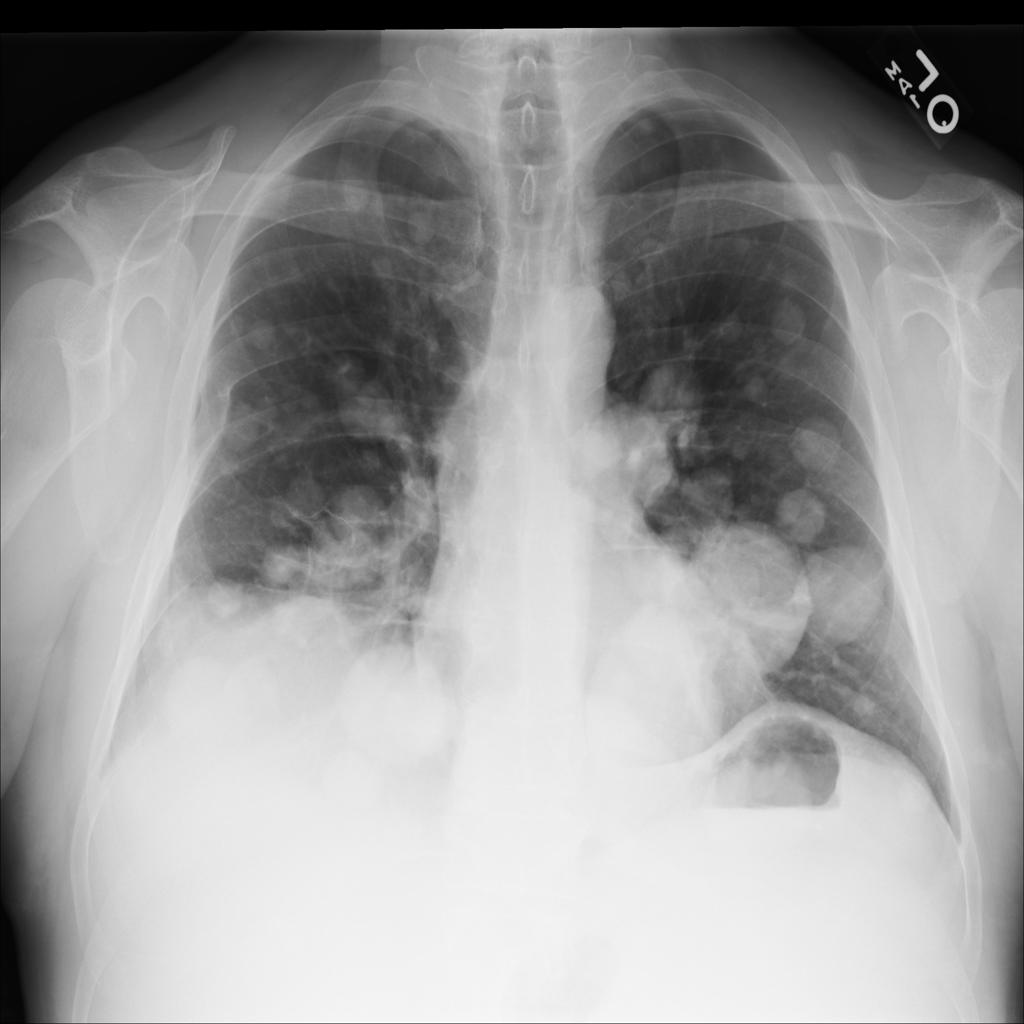nodule: (673, 513, 831, 679), (334, 642, 458, 776), (574, 398, 687, 526), (790, 529, 901, 649), (307, 512, 387, 589), (338, 363, 411, 445), (638, 354, 709, 432), (269, 595, 347, 664), (316, 474, 389, 547), (146, 595, 215, 672), (779, 409, 850, 482), (204, 388, 271, 465), (756, 280, 824, 355), (322, 157, 393, 228), (266, 465, 334, 539), (672, 464, 745, 532), (568, 411, 639, 480), (769, 478, 840, 547), (195, 561, 259, 633), (255, 535, 308, 588), (704, 297, 753, 353), (235, 306, 286, 358), (722, 409, 770, 464), (733, 359, 780, 413), (358, 241, 404, 296), (764, 245, 815, 293), (343, 443, 391, 494), (840, 681, 892, 728), (400, 199, 443, 255), (719, 218, 768, 267), (203, 442, 253, 490), (610, 251, 654, 303), (628, 112, 667, 146)
